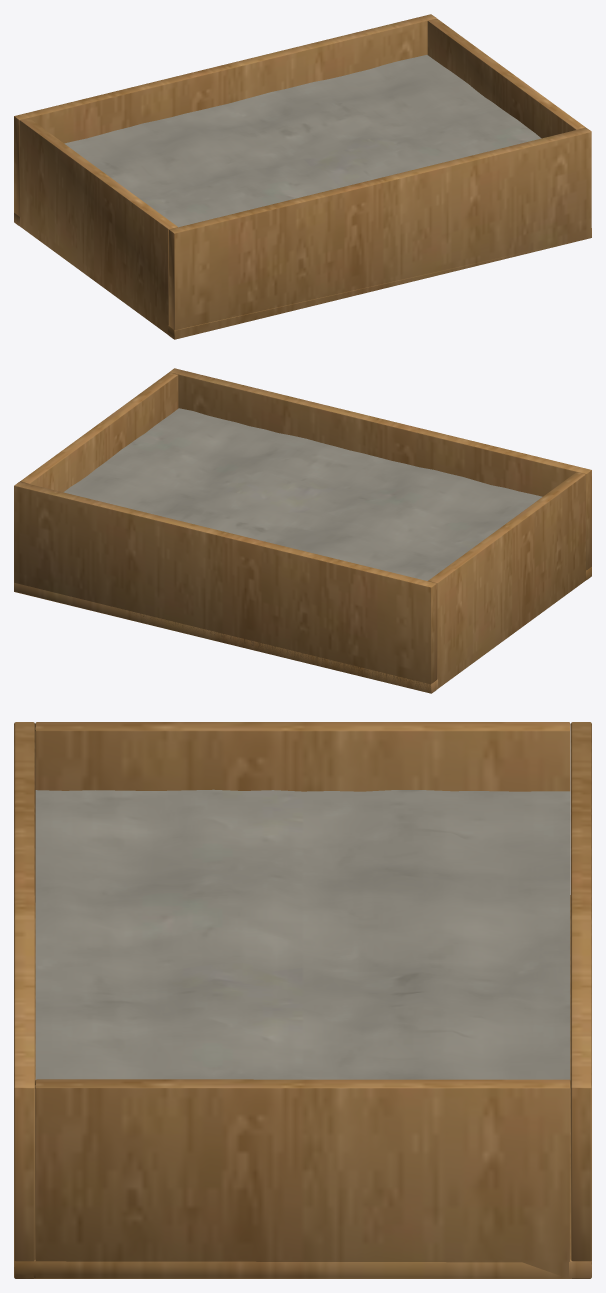
Rendered from REV-ARG-003_lod1.glb.
3 renders of one model, top to bottom at view 1: azimuth 30°, elevation 25°; view 2: azimuth 150°, elevation 25°; view 3: azimuth 270°, elevation 25°, orthographic. The views are drawn at different scales.
Parts seen in each view (by area): view 1: REV-ARG-003_lado-1, REV-ARG-003_argamassa, REV-ARG-003_cab-1, REV-ARG-003_lado1, REV-ARG-003_cab1, REV-ARG-003_fundo; view 2: REV-ARG-003_lado1, REV-ARG-003_argamassa, REV-ARG-003_cab-1, REV-ARG-003_lado-1, REV-ARG-003_cab1, REV-ARG-003_fundo; view 3: REV-ARG-003_argamassa, REV-ARG-003_cab1, REV-ARG-003_cab-1, REV-ARG-003_lado-1, REV-ARG-003_lado1, REV-ARG-003_fundo.
Boxes of the visible parts, x1,y1,x2,y2 form: REV-ARG-003_lado-1: [169, 127, 591, 339]; REV-ARG-003_argamassa: [64, 55, 541, 227]; REV-ARG-003_cab-1: [19, 118, 177, 334]; REV-ARG-003_lado1: [14, 14, 436, 225]; REV-ARG-003_cab1: [427, 18, 585, 138]; REV-ARG-003_fundo: [14, 213, 591, 339]; REV-ARG-003_lado1: [14, 481, 436, 692]; REV-ARG-003_argamassa: [63, 408, 542, 580]; REV-ARG-003_cab-1: [428, 472, 585, 688]; REV-ARG-003_lado-1: [169, 368, 591, 579]; REV-ARG-003_cab1: [20, 372, 178, 492]; REV-ARG-003_fundo: [14, 567, 591, 693]; REV-ARG-003_argamassa: [35, 789, 570, 1079]; REV-ARG-003_cab1: [35, 1079, 570, 1278]; REV-ARG-003_cab-1: [35, 722, 570, 902]; REV-ARG-003_lado-1: [14, 722, 35, 1278]; REV-ARG-003_lado1: [570, 722, 591, 1278]; REV-ARG-003_fundo: [14, 895, 591, 1278].
Bounding box in the file's own units: 0.9 × 0.22 × 0.6.
2 materials, 2 textured.
